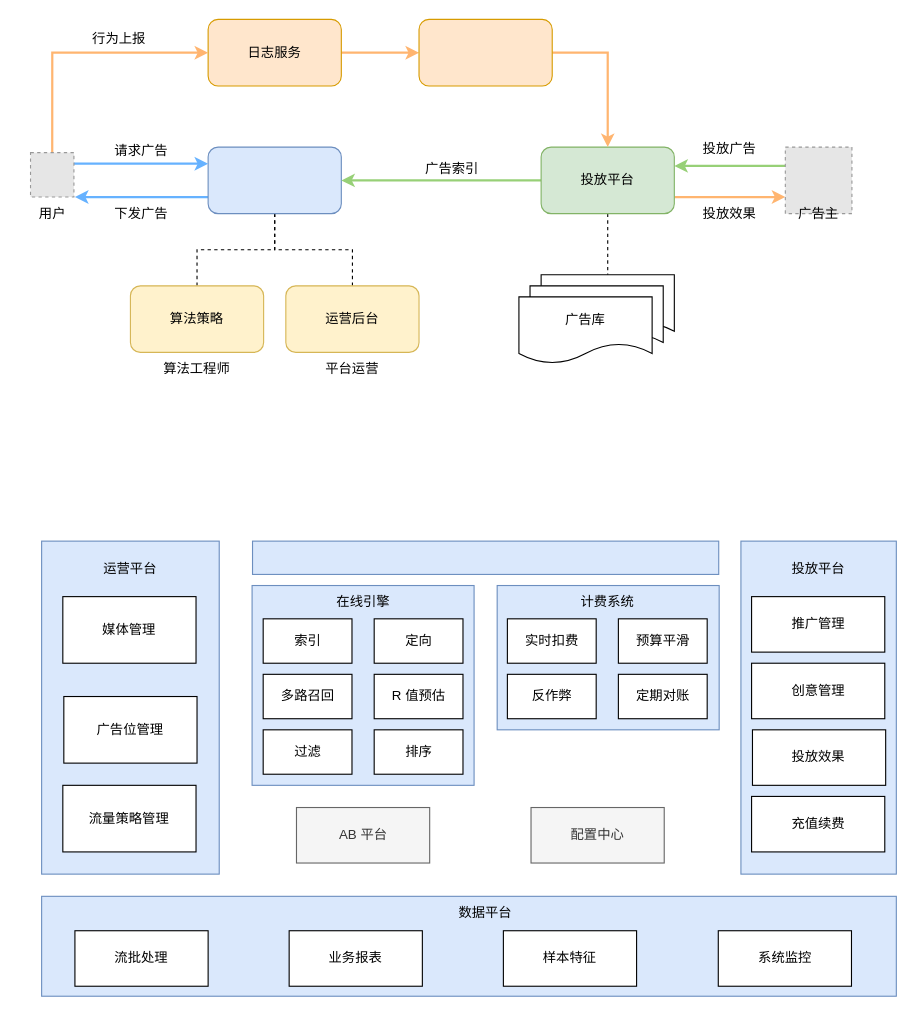
This 916x1016 diagram has some shape labels left out. Grey dashed boxes stand in for pictures. Here are the shapes that lost their labels. From the top down, the centre of each, then its label:
pixel 485 52: 计费服务
pixel 274 180: 广告引擎
pixel 485 557: 媒体流量
